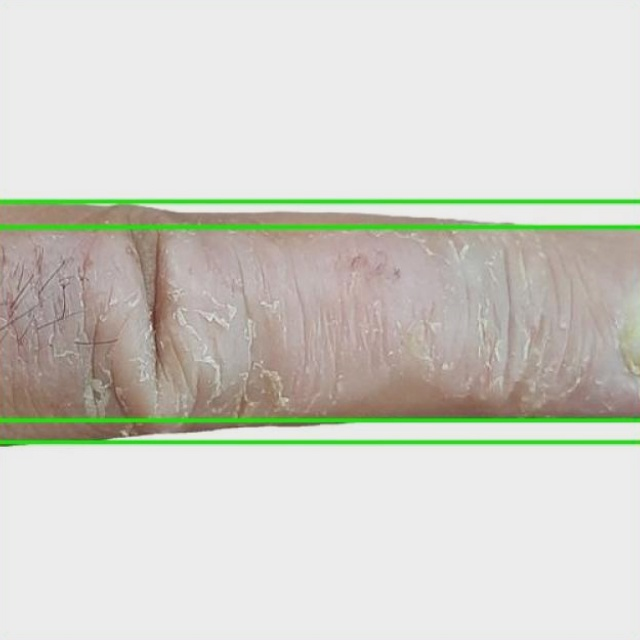Eczema: (0, 202, 639, 443), (0, 0, 639, 227), (0, 420, 639, 639)
